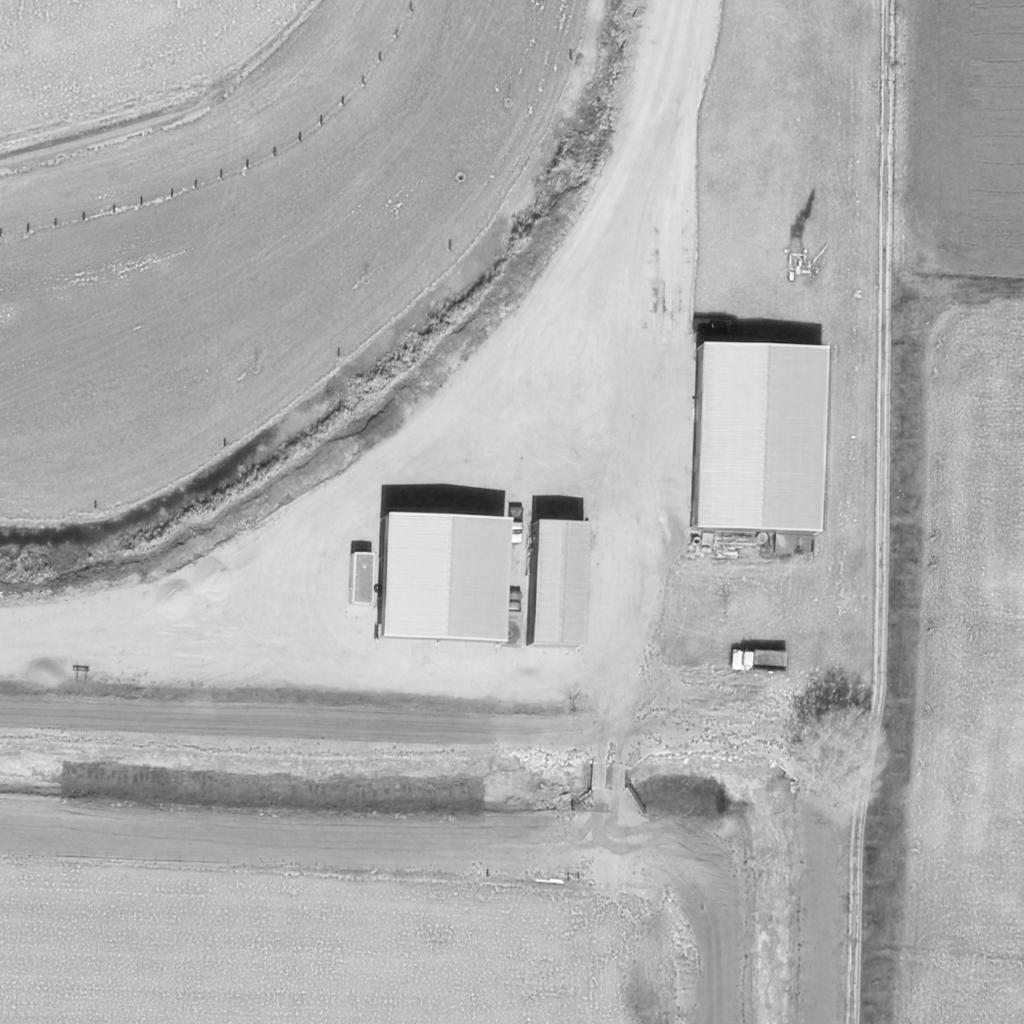vehicle: (350, 552, 378, 608), (502, 587, 524, 651), (730, 649, 790, 671), (503, 502, 527, 546)
